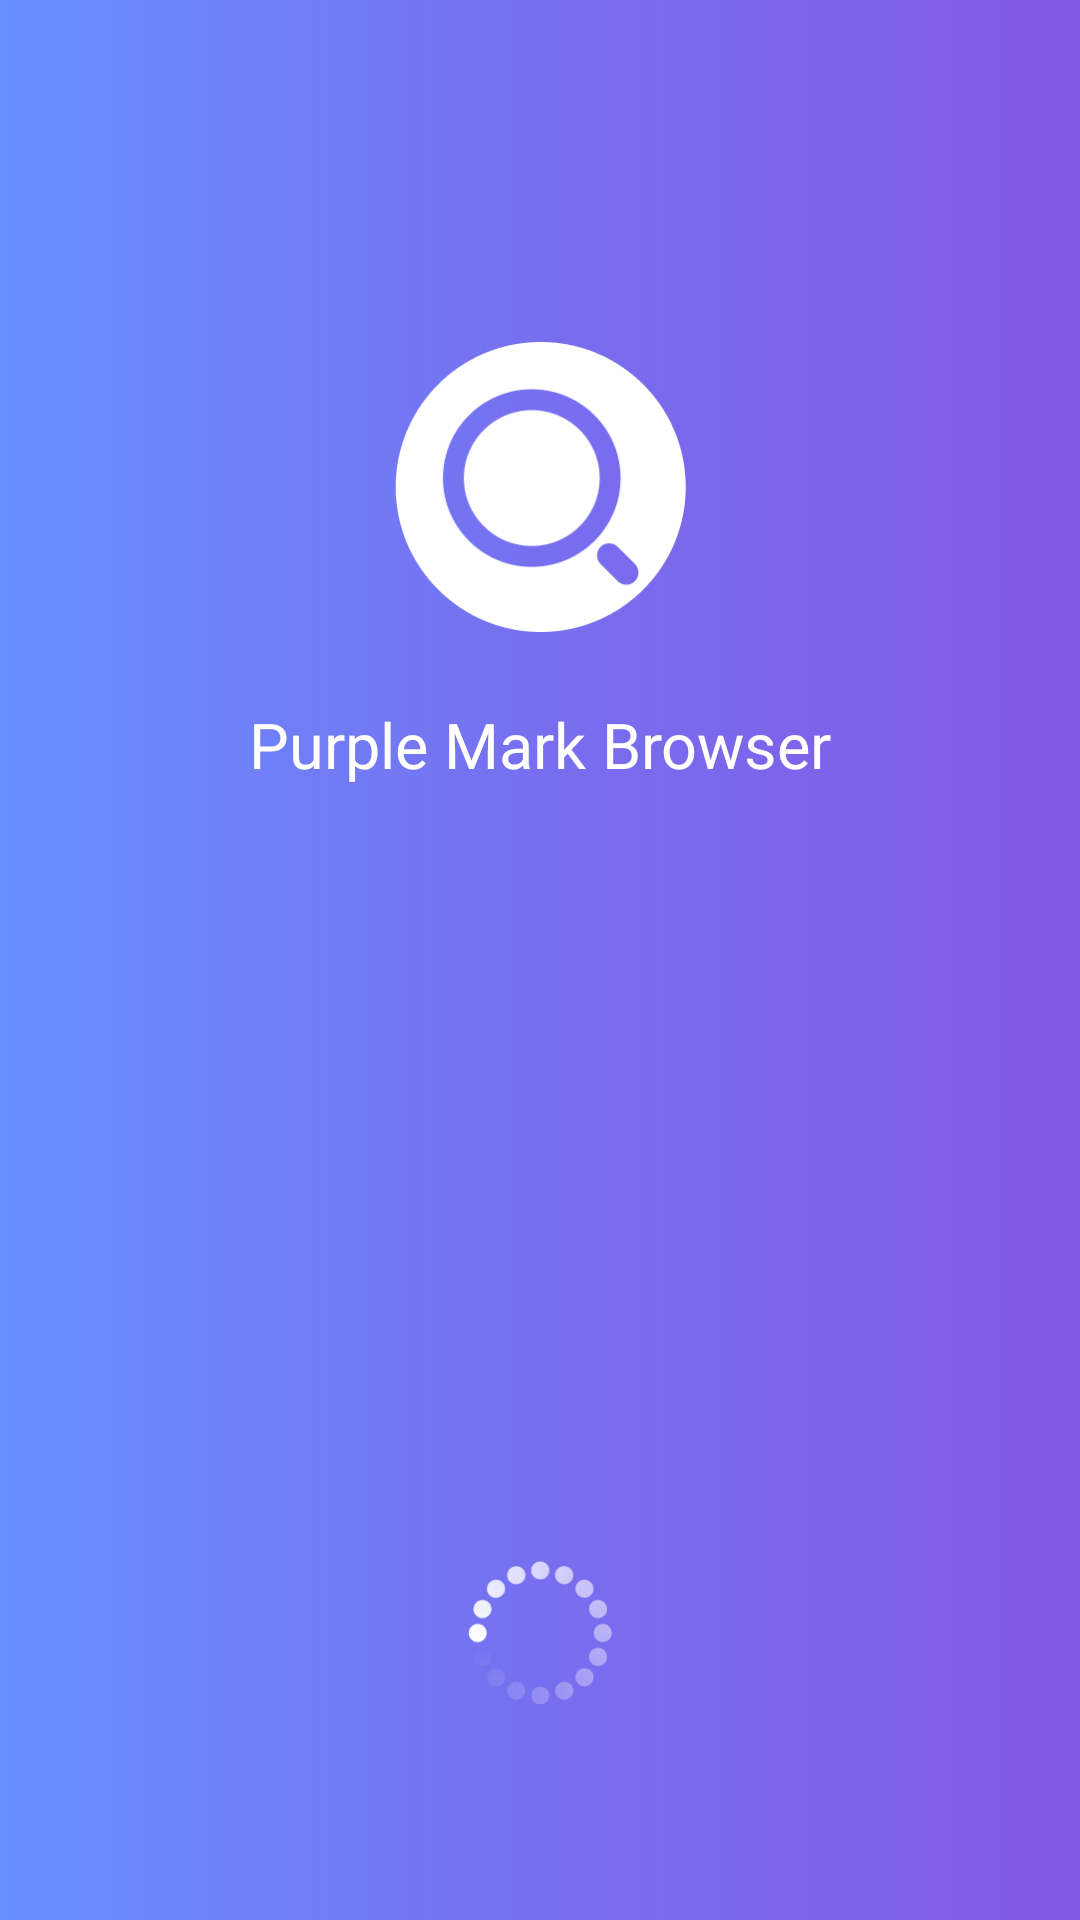

Where icons sit on this 1080px×1920px app screen, as (x1, y1, x2, y2):
loading: (468, 1561, 612, 1704)
